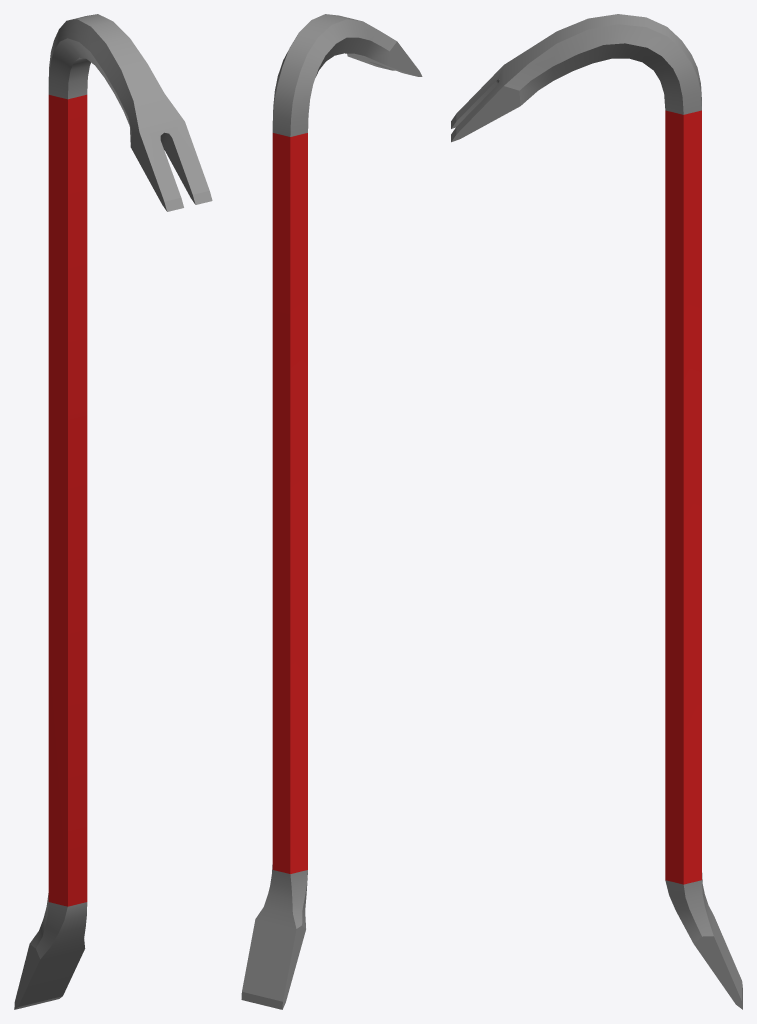
The model's file is palanca_00_UVW.fbx.
3 renders of one model, left to right at view 1: azimuth 30°, elevation 25°; view 2: azimuth 150°, elevation 25°; view 3: azimuth 270°, elevation 25°, orthographic. The views are drawn at different scales.
Parts seen in each view (by area): view 1: palanca_00; view 2: palanca_00; view 3: palanca_00.
Boxes of the visible parts, <box> form: palanca_00: <box>14,14,212,1009</box>; palanca_00: <box>241,14,422,1009</box>; palanca_00: <box>451,14,742,1009</box>.
Bounding box in the file's own units: 10.44 × 226 × 60.99.
